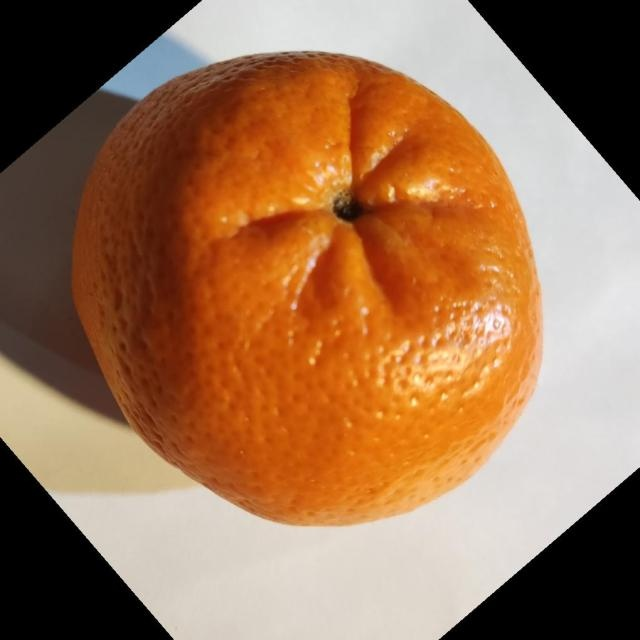agrume: (70, 49, 544, 528)
